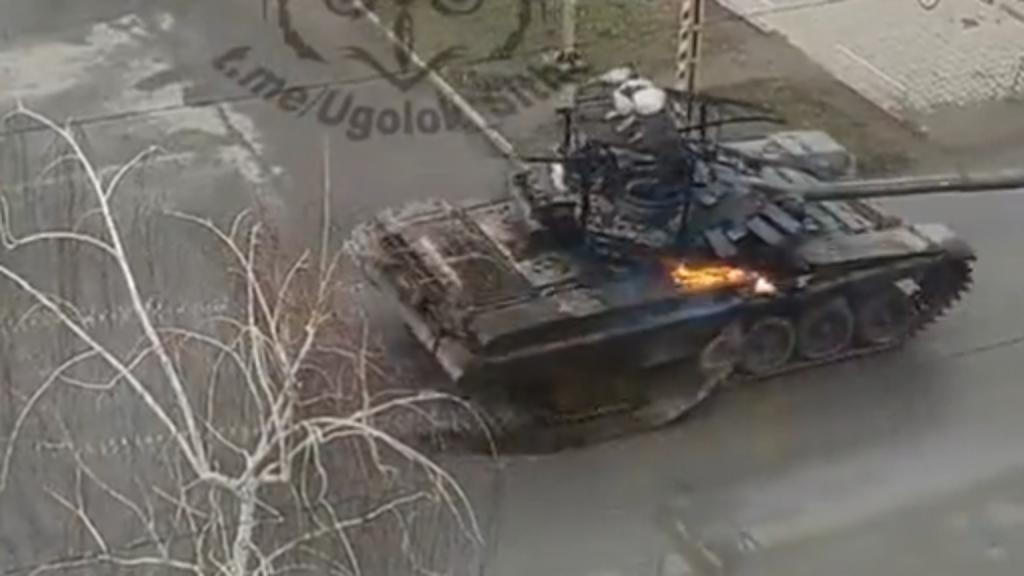TANK: (324, 100, 1010, 448)
